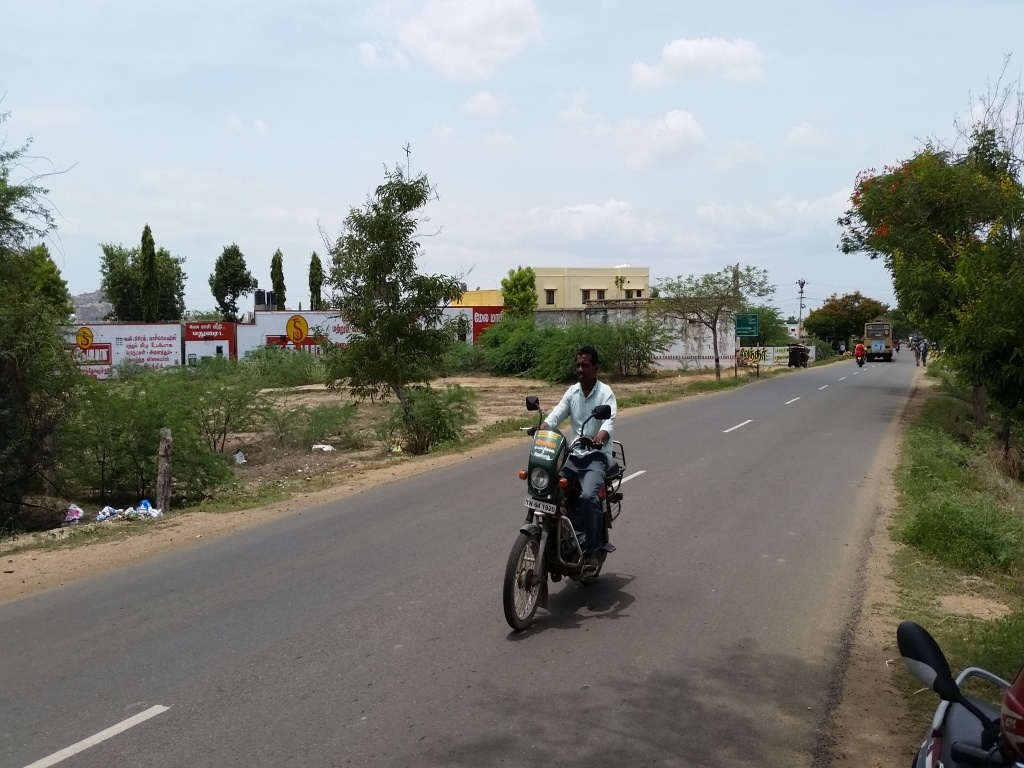biker: (463, 307, 676, 647)
nohelmet: (568, 340, 607, 400)
